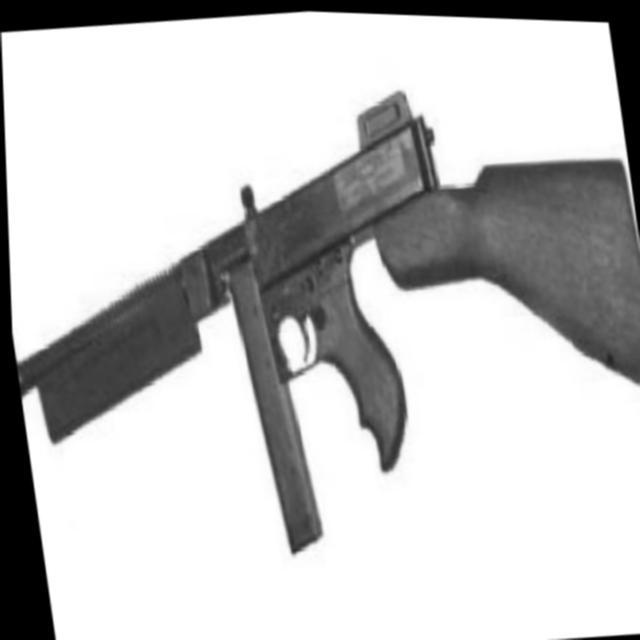weapon: (2, 58, 640, 597)
